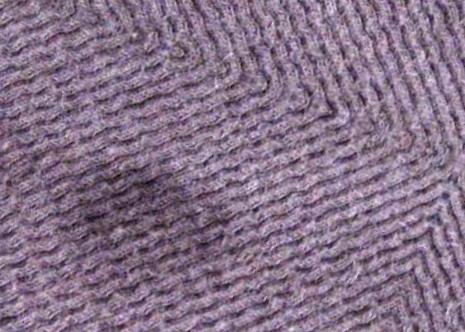stain: (71, 159, 236, 278)
